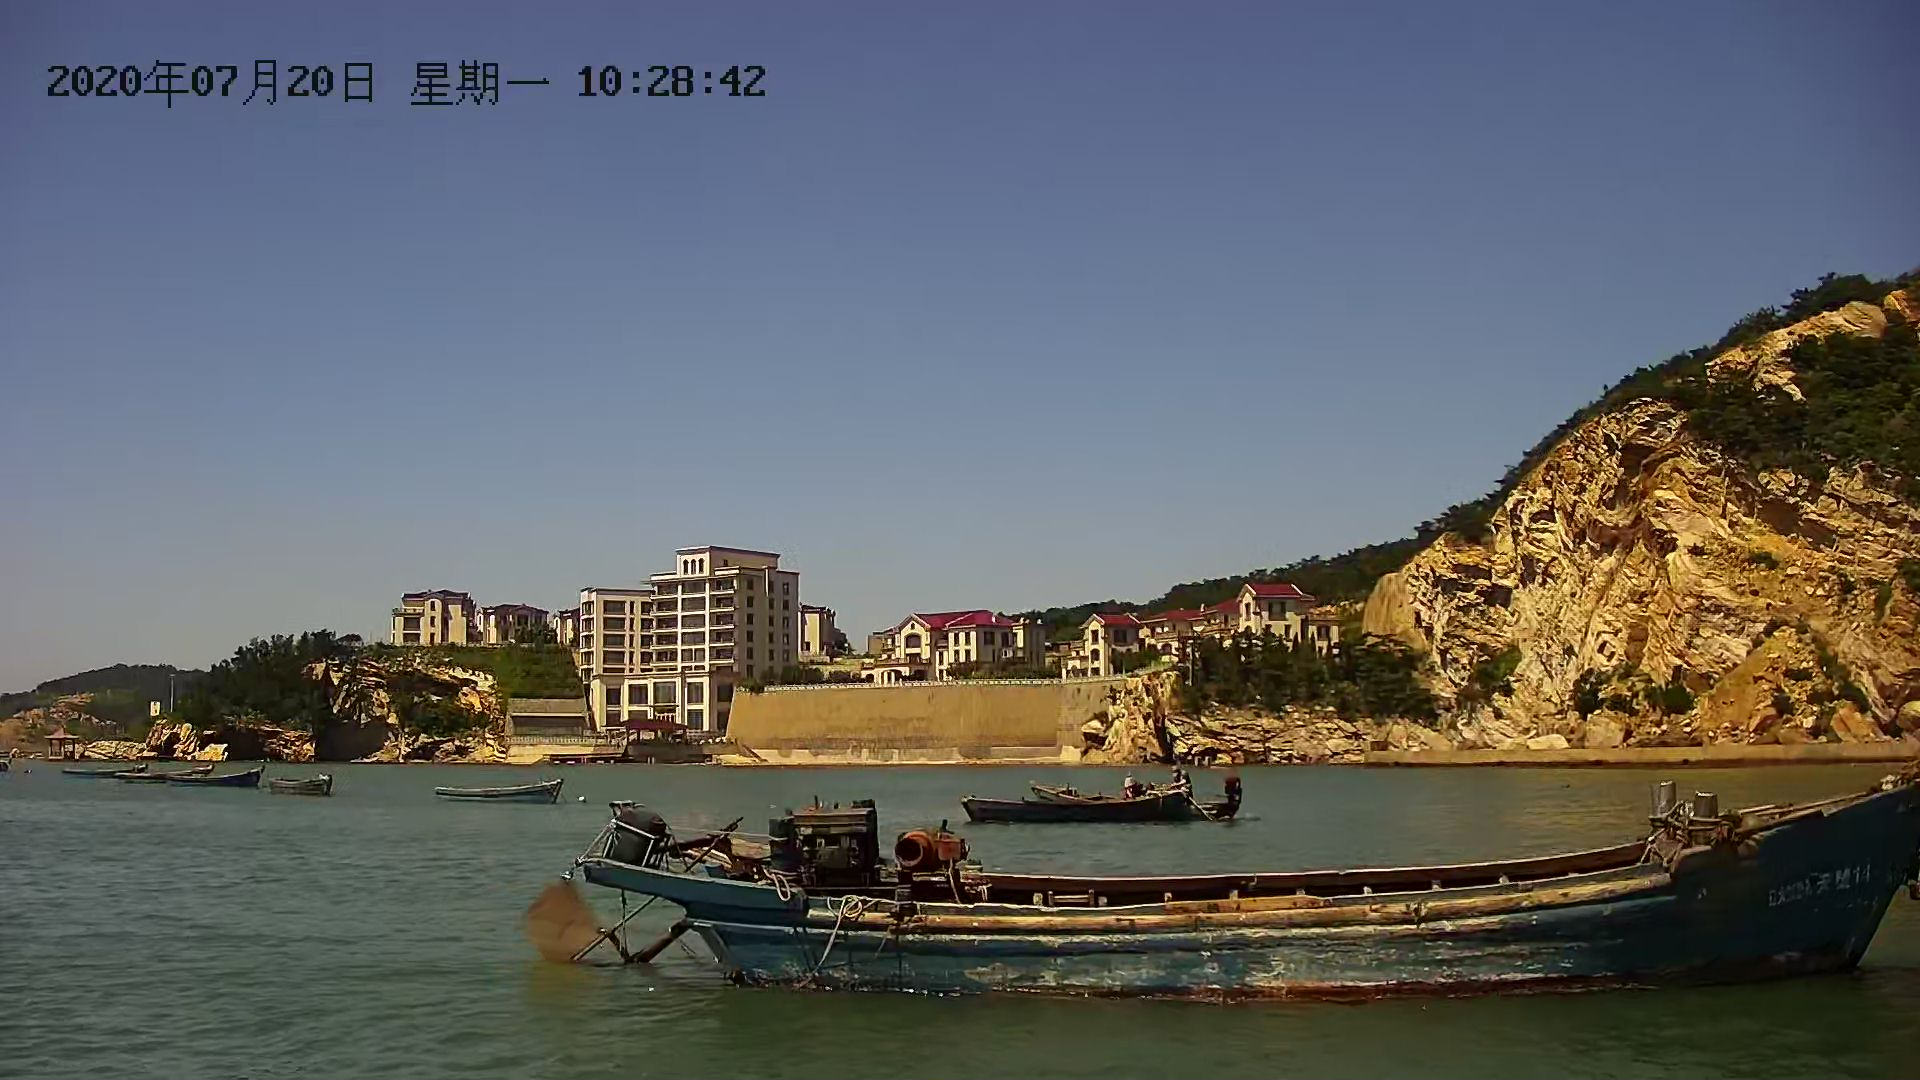boat: (568, 767, 1920, 986), (957, 789, 1247, 827), (426, 782, 559, 808), (113, 756, 208, 783), (65, 754, 152, 781), (262, 774, 334, 802), (174, 775, 258, 791)
